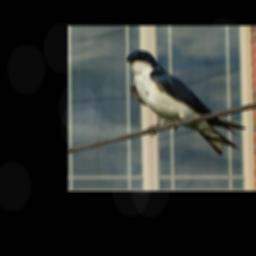Swallow: (125, 49, 248, 156)
